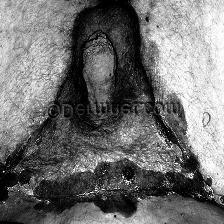Toxin: (0, 150, 40, 208), (110, 154, 146, 192)
